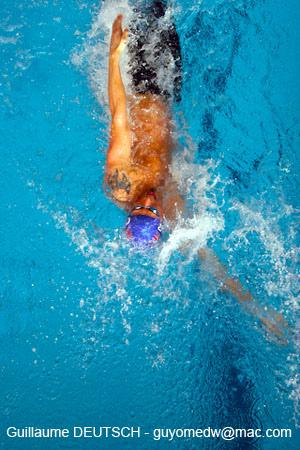human: (107, 7, 288, 347)
